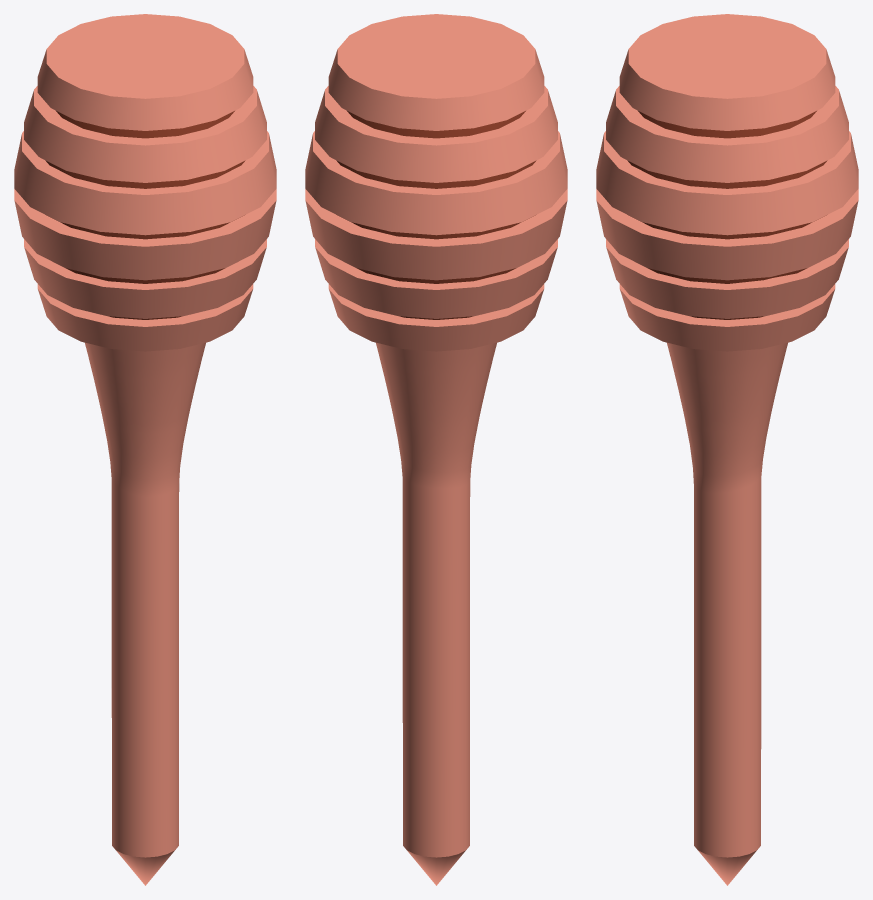
File: stick00.obj
3 renders of one model, left to right at view 1: azimuth 30°, elevation 25°; view 2: azimuth 150°, elevation 25°; view 3: azimuth 270°, elevation 25°, orthographic.
Parts seen in each view (by area): view 1: pCylinder1, pCylinder3, pasted__pasted__pCylinder3 pasted__group13 group14, pasted__pCylinder3 group13, pasted__pasted__pasted__pCylinder3 pasted__pasted__group13 paste, pasted__pasted__pCylinder3 pasted__group13 group16, pasted__pCylinder3 group17, pasted__pCylinder1 group5; view 2: pCylinder1, pCylinder3, pasted__pasted__pCylinder3 pasted__group13 group14, pasted__pCylinder3 group13, pasted__pasted__pasted__pCylinder3 pasted__pasted__group13 paste, pasted__pasted__pCylinder3 pasted__group13 group16, pasted__pCylinder3 group17, pasted__pCylinder1 group5; view 3: pCylinder1, pCylinder3, pasted__pasted__pCylinder3 pasted__group13 group14, pasted__pCylinder3 group13, pasted__pasted__pasted__pCylinder3 pasted__pasted__group13 paste, pasted__pasted__pCylinder3 pasted__group13 group16, pasted__pCylinder3 group17, pasted__pCylinder1 group5.
Boxes of the visible parts, left/top/right/bottom form: pCylinder1: left=85, top=342, right=205, bottom=885; pCylinder3: left=37, top=14, right=253, bottom=130; pasted__pasted__pCylinder3 pasted__group13 group14: left=14, top=131, right=276, bottom=235; pasted__pCylinder3 group13: left=24, top=86, right=266, bottom=182; pasted__pasted__pasted__pCylinder3 pasted__pasted__group13 paste: left=14, top=189, right=276, bottom=280; pasted__pasted__pCylinder3 pasted__group13 group16: left=24, top=239, right=266, bottom=318; pasted__pCylinder3 group17: left=37, top=284, right=253, bottom=351; pasted__pCylinder1 group5: left=45, top=111, right=245, bottom=319; pCylinder1: left=376, top=342, right=496, bottom=885; pCylinder3: left=328, top=14, right=544, bottom=130; pasted__pasted__pCylinder3 pasted__group13 group14: left=305, top=131, right=567, bottom=235; pasted__pCylinder3 group13: left=315, top=86, right=557, bottom=182; pasted__pasted__pasted__pCylinder3 pasted__pasted__group13 paste: left=305, top=189, right=567, bottom=280; pasted__pasted__pCylinder3 pasted__group13 group16: left=315, top=239, right=557, bottom=318; pasted__pCylinder3 group17: left=328, top=284, right=544, bottom=351; pasted__pCylinder1 group5: left=336, top=111, right=536, bottom=319; pCylinder1: left=667, top=342, right=787, bottom=885; pCylinder3: left=619, top=14, right=835, bottom=130; pasted__pasted__pCylinder3 pasted__group13 group14: left=596, top=131, right=858, bottom=235; pasted__pCylinder3 group13: left=606, top=86, right=848, bottom=182; pasted__pasted__pasted__pCylinder3 pasted__pasted__group13 paste: left=596, top=189, right=858, bottom=280; pasted__pasted__pCylinder3 pasted__group13 group16: left=606, top=239, right=848, bottom=318; pasted__pCylinder3 group17: left=619, top=284, right=835, bottom=351; pasted__pCylinder1 group5: left=627, top=111, right=827, bottom=319.
Size of the model in its own units: 1.39 by 4.77 by 1.37.
